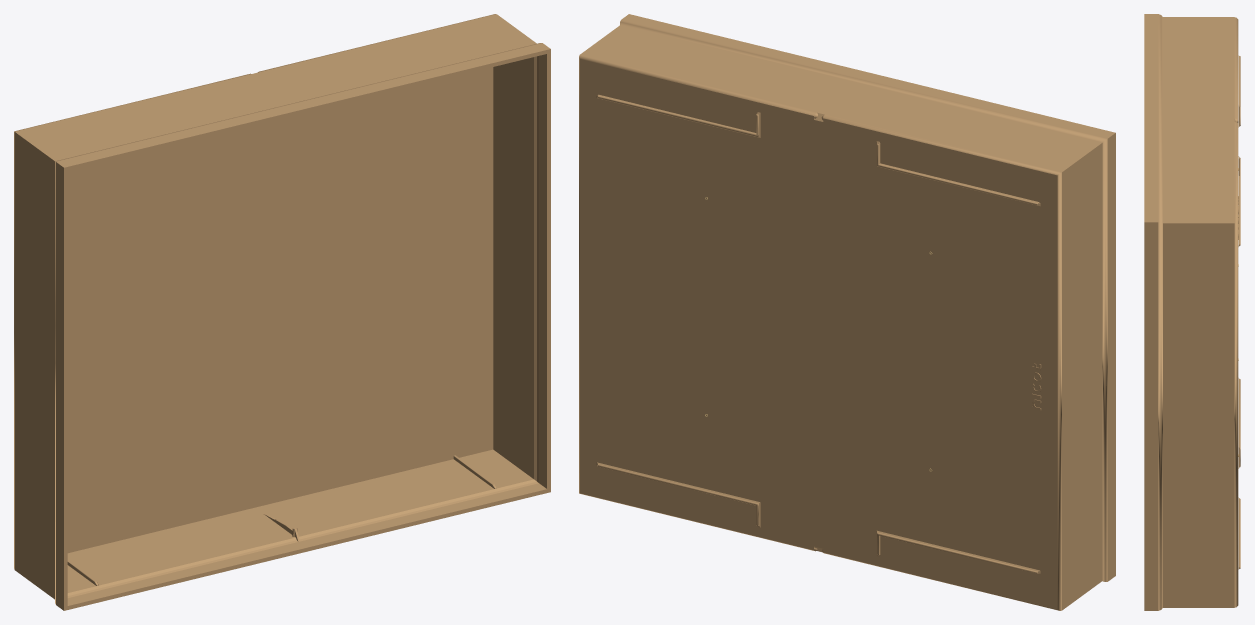
File: toit_de_ruche.fbx
3 renders of one model, left to right at view 1: azimuth 30°, elevation 25°; view 2: azimuth 150°, elevation 25°; view 3: azimuth 270°, elevation 25°, orthographic. The views are drawn at different scales.
Parts seen in each view (by area): view 1: Toit_de_ruche; view 2: Toit_de_ruche; view 3: Toit_de_ruche.
Part boxes in pixels (left/top/right/bottom): Toit_de_ruche: left=14, top=14, right=550, bottom=610; Toit_de_ruche: left=579, top=14, right=1115, bottom=610; Toit_de_ruche: left=1144, top=14, right=1240, bottom=610.
Size of the model in its own units: 52.3 by 45.5 by 10.24.
